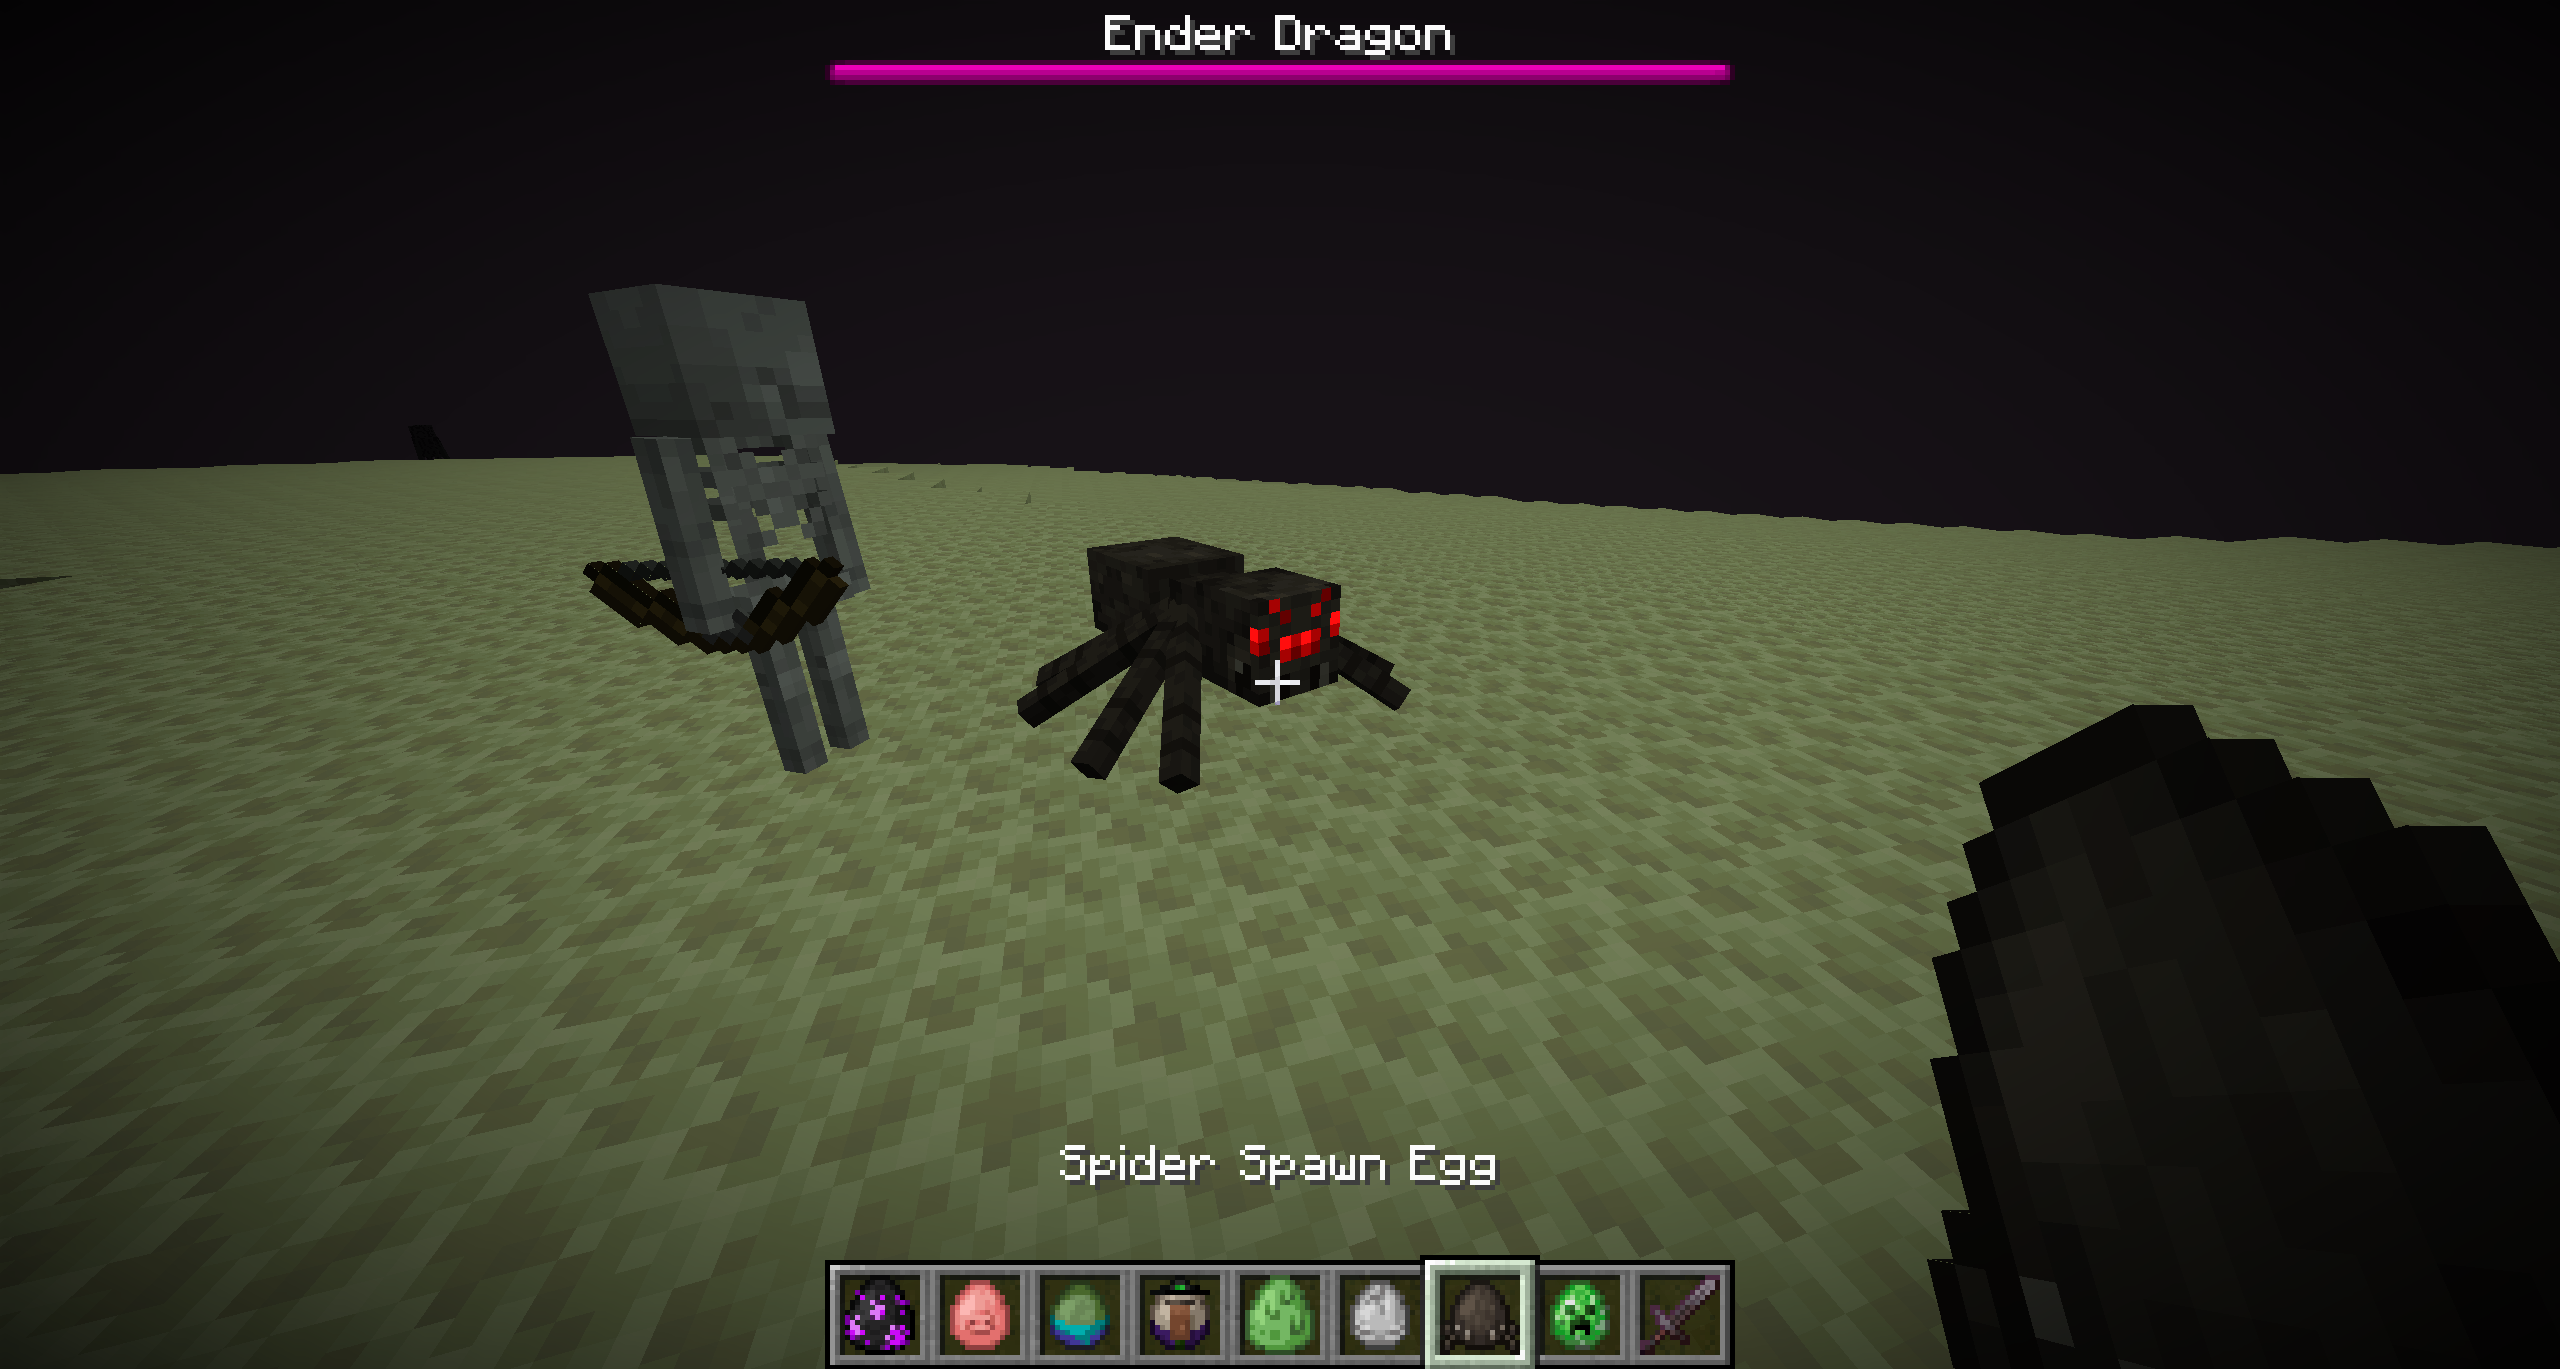araignees: (1040, 535, 1392, 780)
squelettes: (586, 281, 882, 767)
